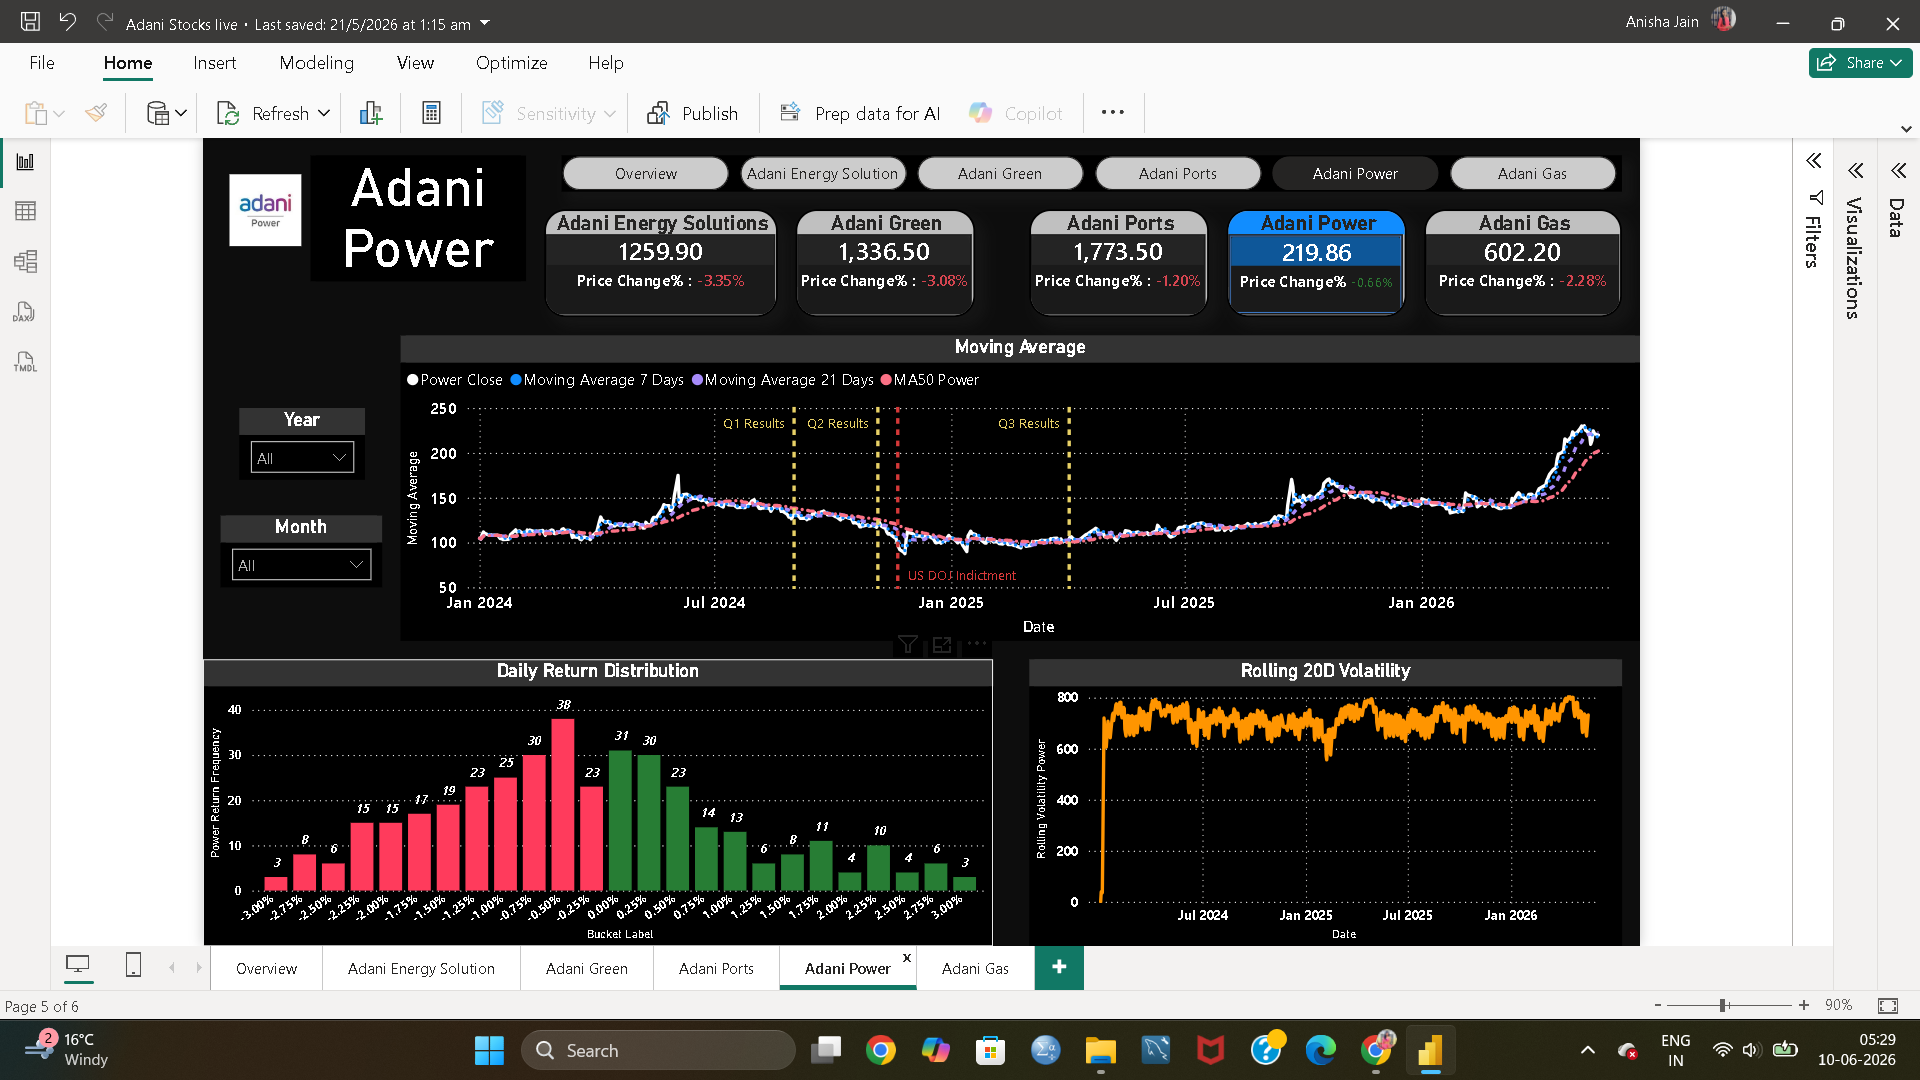

This screenshot's page, from the dashboard's own definition file:
{"tool":"powerbi","page":{"name":"Adani Power","canvas":[1280,720],"ordinal":4},"visuals":[{"type":"cardVisual","title":"Adani Energy Solutions","fields":{"Data":["DAX Table.Current Price AENT"]},"box":[304,64,208,96],"z":0},{"type":"cardVisual","title":"Adani Power","fields":{"Data":["DAX Table.Current Price APOWER"]},"box":[912,64,160,96],"z":1000},{"type":"cardVisual","title":"Adani Ports ","fields":{"Data":["DAX Table.Current Price APorts"]},"box":[736,64,160,96],"z":2000},{"type":"cardVisual","title":"Adani Gas ","fields":{"Data":["DAX Table.Current Price ATotalGas"]},"box":[1088,64,176,96],"z":3000},{"type":"cardVisual","title":"Adani Green","fields":{"Data":["DAX Table.Current Price AGreen"]},"box":[528,64,160,96],"z":4000},{"type":"slicer","title":"Year","fields":{"Values":["Date Table.Year"]},"box":[32,240,112,64],"z":5000},{"type":"slicer","title":"Month","fields":{"Values":["Energy Solutions.Date.Variation.Date Hierarchy.Month"]},"box":[16,336,144,64],"z":6000},{"type":"textbox","title":"Adani Power","box":[96,16,192,112],"z":7000},{"type":"pageNavigator","box":[320,16,944,32],"z":8000},{"type":"image","box":[16,32,80,64],"z":9000},{"type":"lineChart","title":"Moving Average","fields":{"Y":["Avg(Power.Power Close)","MA.MA7 Power","MA.MA21 Power","MA.MA50 Power"],"Category":["Power.Date.Variation.Date Hierarchy.Year"]},"box":[176,176,1104,272],"z":10000},{"type":"lineChart","title":"Rolling 20D Volatility","fields":{"Y":["DAX Table.Rolling Volatility Power"],"Category":["Power.Date"]},"box":[736,464,528,256],"z":11000},{"type":"columnChart","title":"Daily Return Distribution","fields":{"Category":["Green Return Buckets.Bucket Label"],"Y":["DAX Table.Power Return Frequency"]},"box":[0,464,704,256],"z":12000}]}

Visuals, with their boxes on the page's 1280x720 design canvas (x1, y1, x2, y2). These are canvas units, not pixel positions in the 1920x1080 screenshot, which may show the page scaled, cropped or inside an application window:
"Adani Energy Solutions" cardVisual: [left=304, top=64, right=512, bottom=160]
"Adani Power" cardVisual: [left=912, top=64, right=1072, bottom=160]
"Adani Ports " cardVisual: [left=736, top=64, right=896, bottom=160]
"Adani Gas " cardVisual: [left=1088, top=64, right=1264, bottom=160]
"Adani Green" cardVisual: [left=528, top=64, right=688, bottom=160]
"Year" slicer: [left=32, top=240, right=144, bottom=304]
"Month" slicer: [left=16, top=336, right=160, bottom=400]
"Adani Power" textbox: [left=96, top=16, right=288, bottom=128]
pageNavigator: [left=320, top=16, right=1264, bottom=48]
image: [left=16, top=32, right=96, bottom=96]
"Moving Average" lineChart: [left=176, top=176, right=1280, bottom=448]
"Rolling 20D Volatility" lineChart: [left=736, top=464, right=1264, bottom=720]
"Daily Return Distribution" columnChart: [left=0, top=464, right=704, bottom=720]
